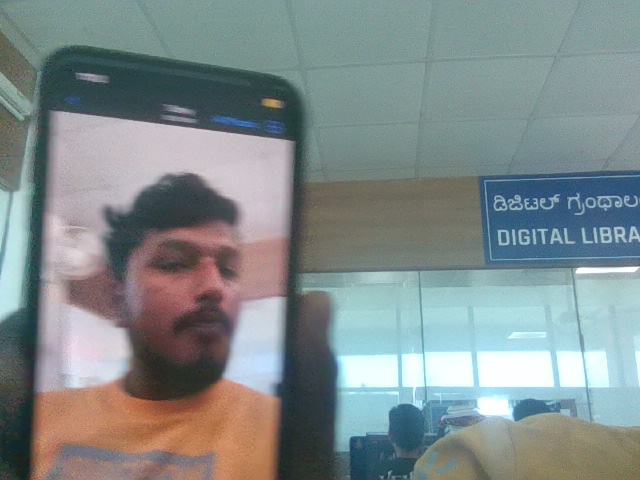fake: (98, 140, 276, 393)
